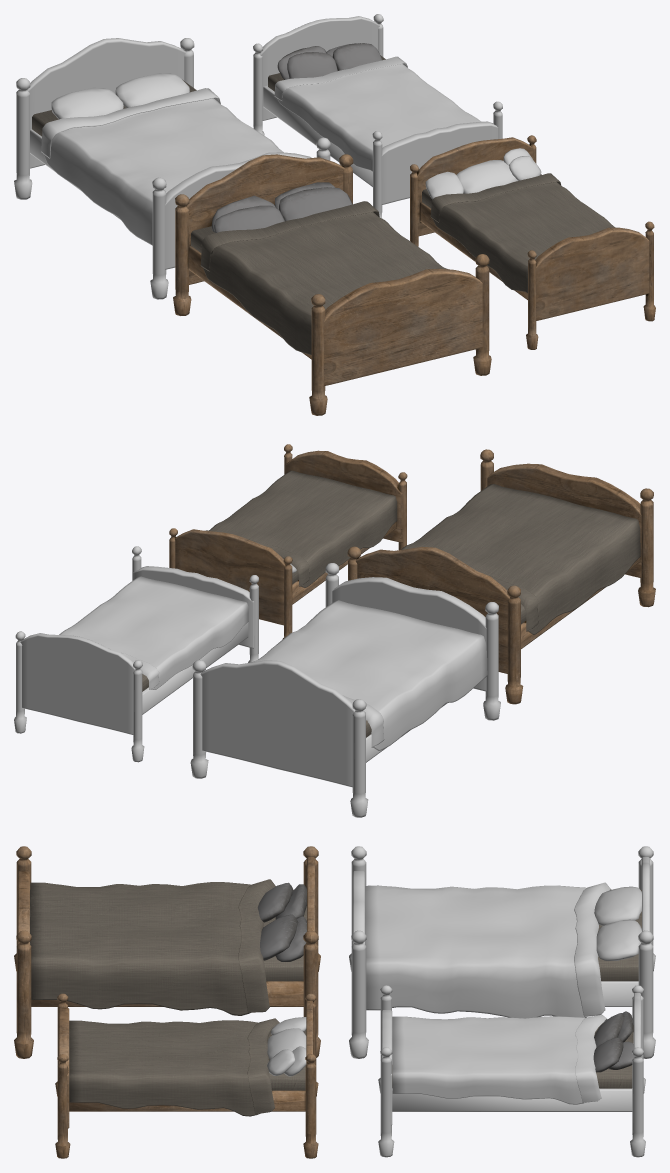
File: Bedding_1A1.fbx
3 views of the same model, one above another, from view 1: azimuth 30°, elevation 25°; view 2: azimuth 150°, elevation 25°; view 3: azimuth 270°, elevation 25° (orthographic). The views are drawn at different scales.
Visible parts, largest first — view 1: Adults_Bed_1A1, Adults_Bed_1A2, Childrens_Bed_1A1, Childrens_Bed_1A2; view 2: Adults_Bed_1A2, Adults_Bed_1A1, Childrens_Bed_1A2, Childrens_Bed_1A1; view 3: Adults_Bed_1A2, Adults_Bed_1A1, Childrens_Bed_1A2, Childrens_Bed_1A1.
Part boxes in pixels (left/top/right/bottom): Adults_Bed_1A1: left=173, top=154, right=491, bottom=415; Adults_Bed_1A2: left=14, top=38, right=330, bottom=299; Childrens_Bed_1A1: left=410, top=135, right=655, bottom=349; Childrens_Bed_1A2: left=253, top=14, right=502, bottom=218; Adults_Bed_1A2: left=190, top=563, right=500, bottom=817; Adults_Bed_1A1: left=347, top=449, right=655, bottom=704; Childrens_Bed_1A2: left=14, top=546, right=258, bottom=762; Childrens_Bed_1A1: left=169, top=444, right=407, bottom=639; Adults_Bed_1A2: left=349, top=846, right=655, bottom=1058; Adults_Bed_1A1: left=14, top=846, right=320, bottom=1058; Childrens_Bed_1A2: left=378, top=985, right=645, bottom=1157; Childrens_Bed_1A1: left=55, top=993, right=318, bottom=1158.
Bounding box in the file's own units: 465 × 173 × 671.
